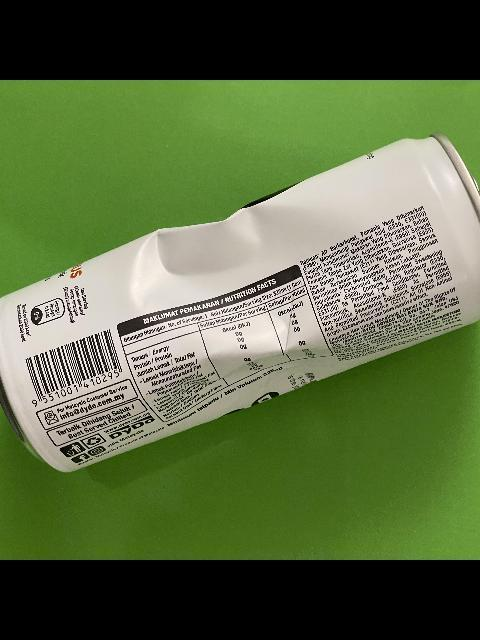drinkcan: (0, 132, 480, 475)
